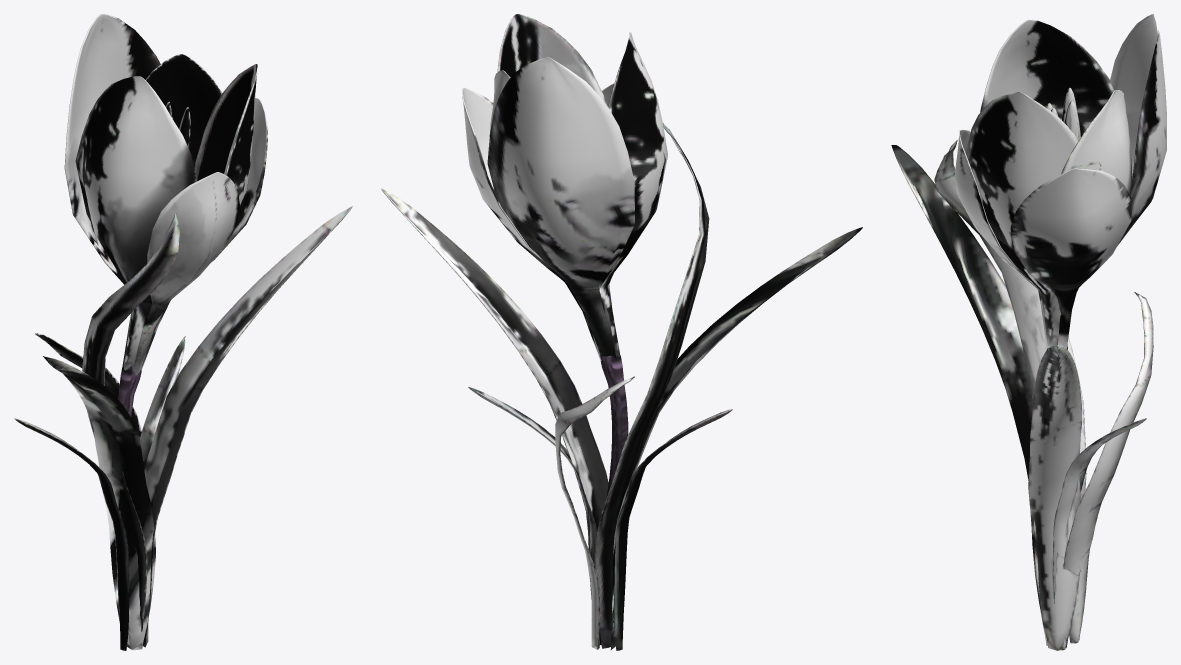
File: crocus.glb
3 renders of one model, left to right at view 1: azimuth 30°, elevation 25°; view 2: azimuth 150°, elevation 25°; view 3: azimuth 270°, elevation 25°, orthographic. The views are drawn at different scales.
Parts seen in each view (by area): view 1: crocus; view 2: crocus; view 3: crocus.
Part boxes in pixels (x1,y1,x2,y2): crocus: (14,14,352,650); crocus: (381,14,862,650); crocus: (891,14,1166,650).
Bounding box in the file's own units: 0.5875 × 0.87 × 0.341.
4 materials, 4 textured.
